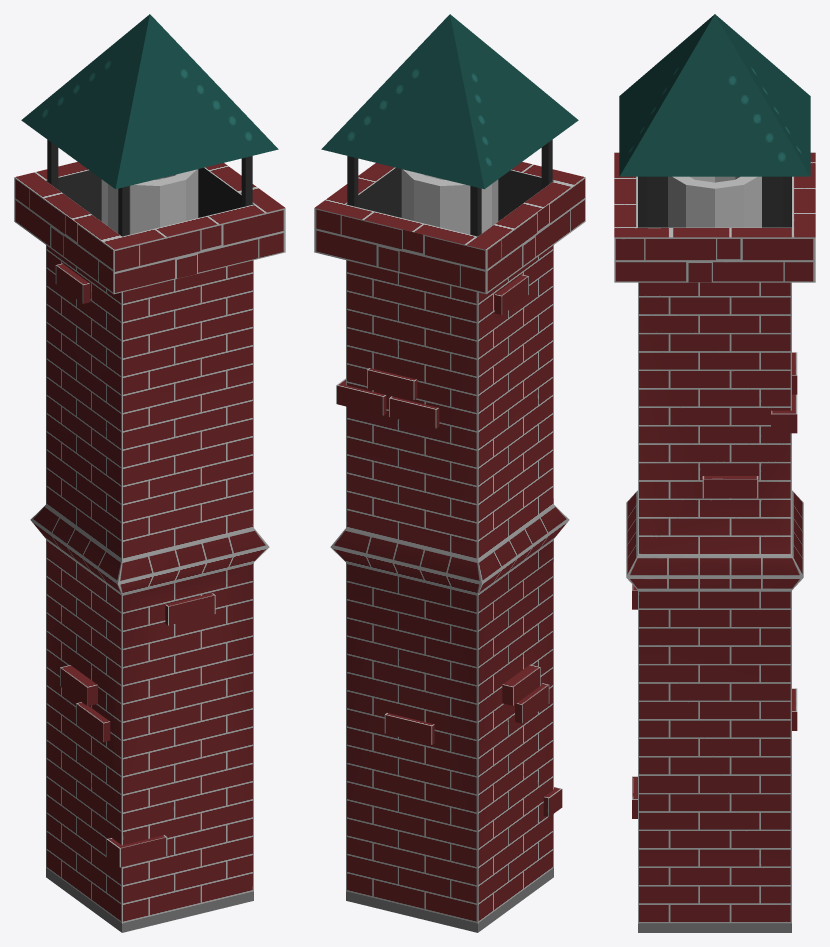
The model's file is 3a827483-bcf0-4d87-b8b3-7e55449c0902.glb.
3 renders of one model, left to right at view 1: azimuth 30°, elevation 25°; view 2: azimuth 150°, elevation 25°; view 3: azimuth 270°, elevation 25°, orthographic.
Parts seen in each view (by area): view 1: Chimney_2; view 2: Chimney_2; view 3: Chimney_2.
Boxes of the visible parts, <box> form: Chimney_2: <box>14,14,285,932</box>; Chimney_2: <box>314,14,585,932</box>; Chimney_2: <box>614,14,815,932</box>.
Size of the model in its own units: 196 by 951 by 196.
Materials: 1 (1 with a texture image).
